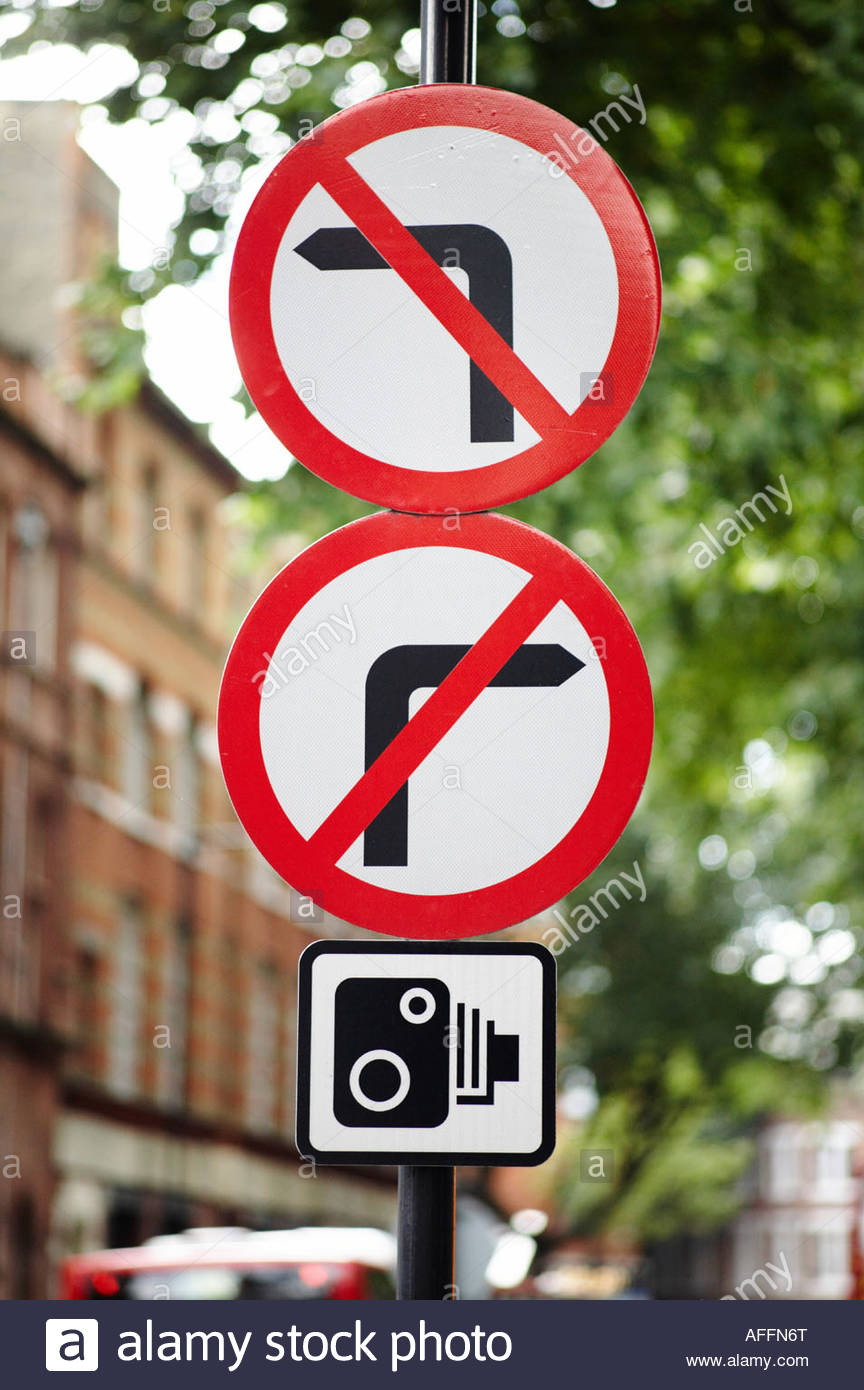No_left_turn: (228, 83, 661, 518)
No_right_turn: (219, 514, 653, 941)
